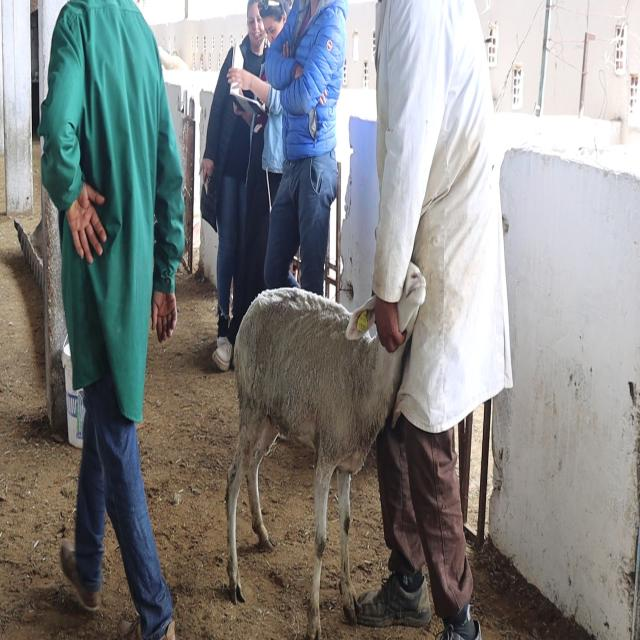Score_1: (226, 265, 425, 639)
